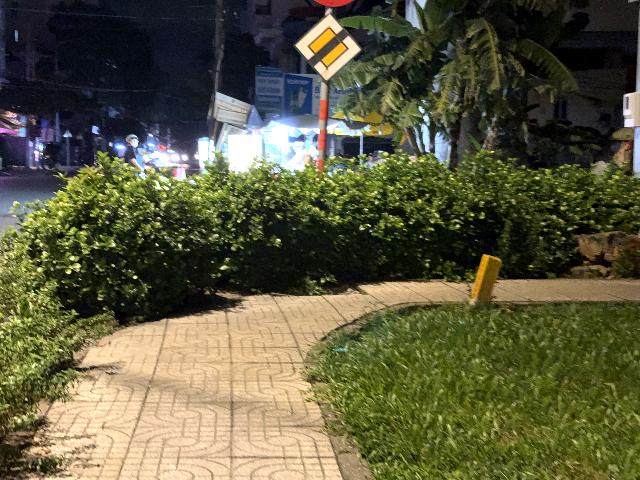het-duong-uu-tien: (293, 11, 363, 83)
